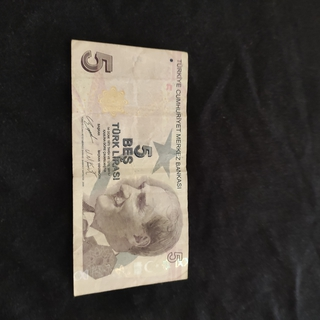5TLFront: (70, 39, 190, 297)
